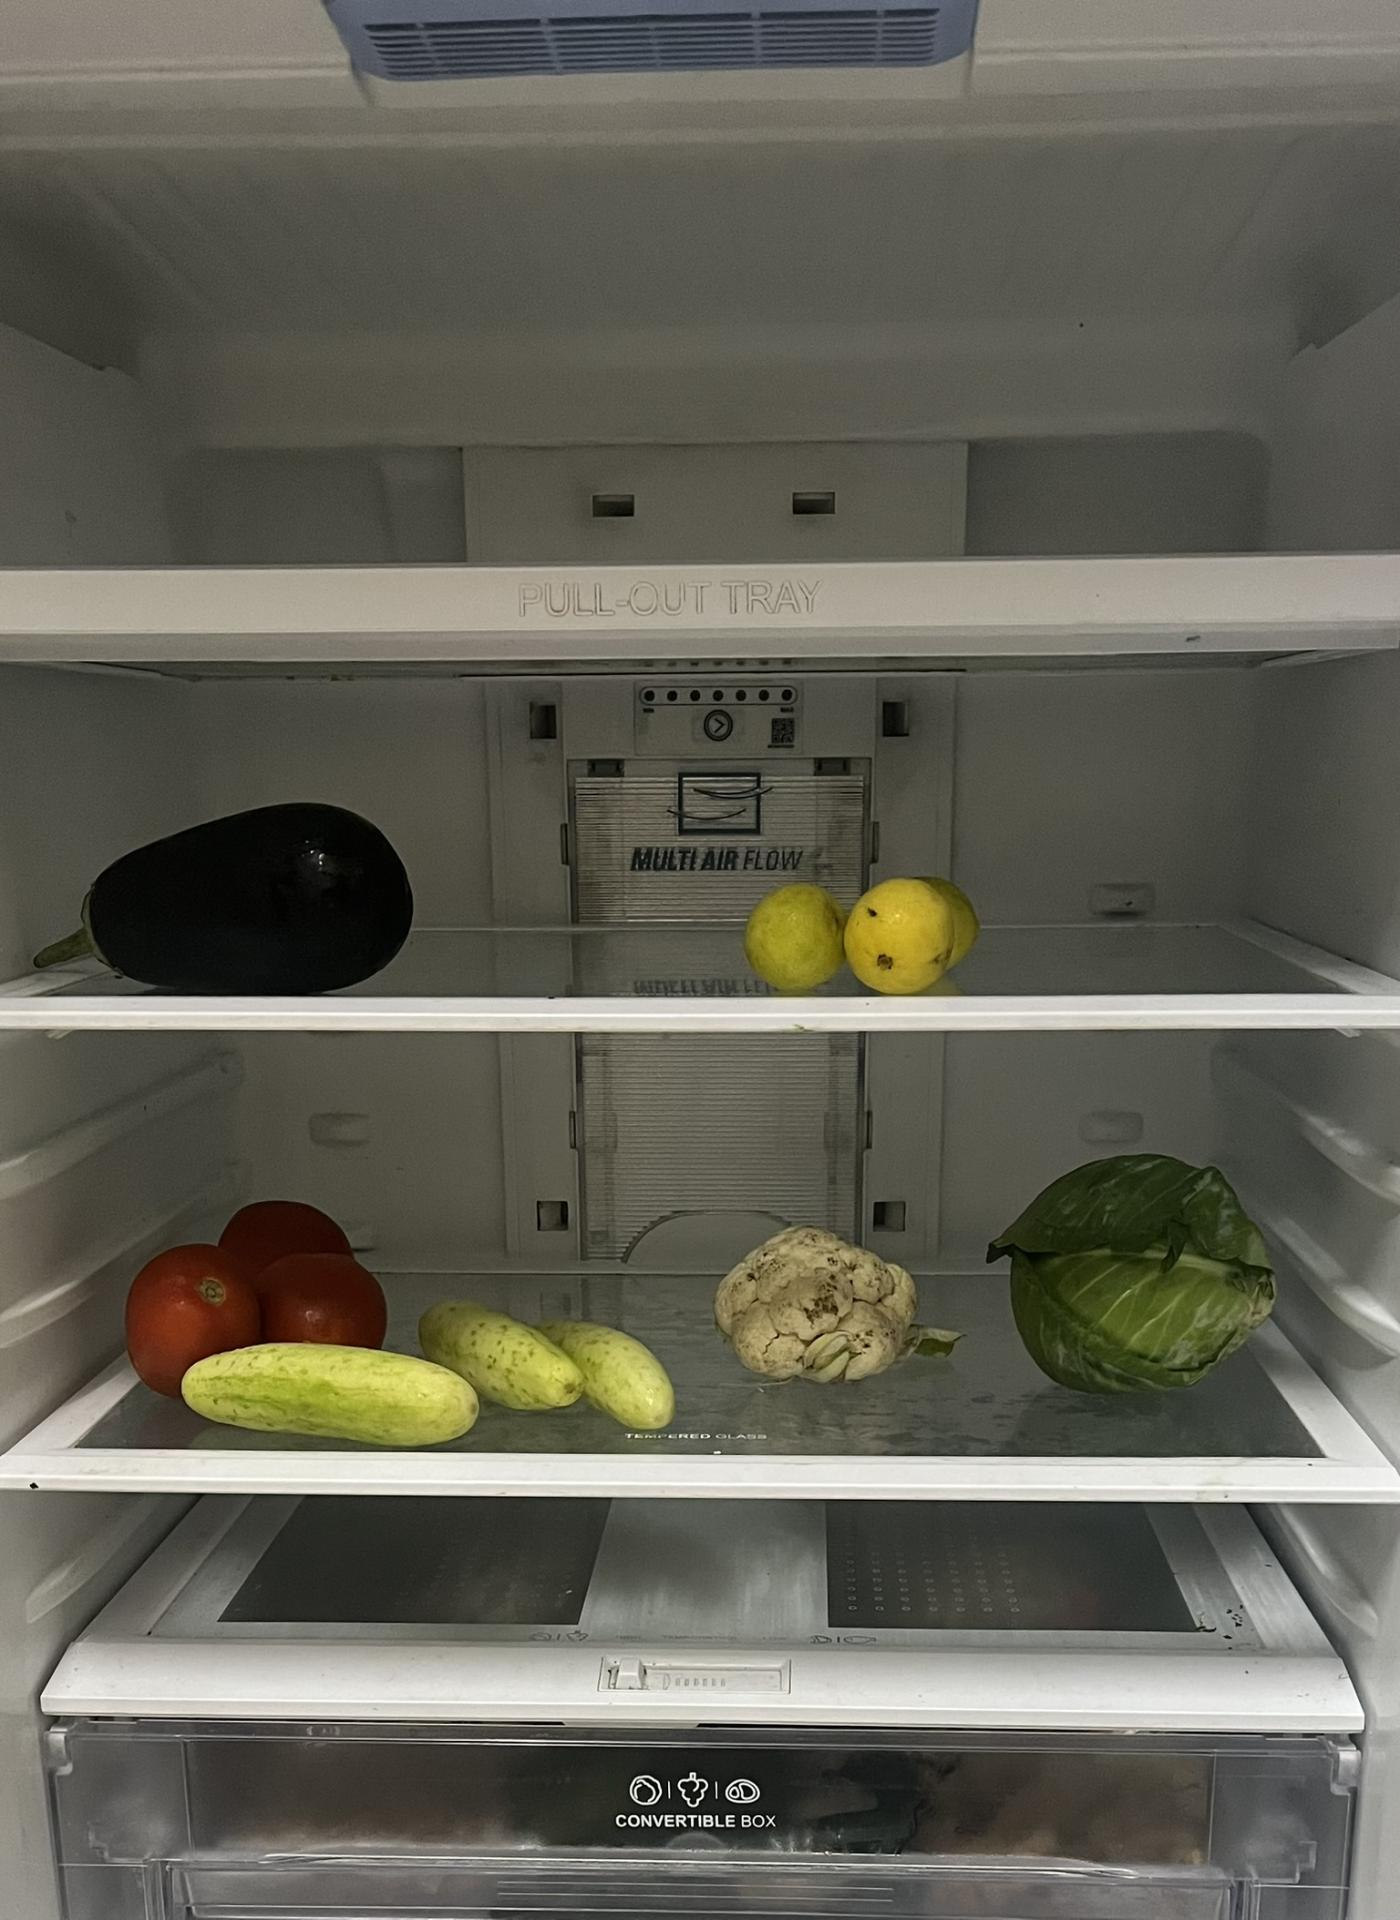brinjal: (82, 796, 417, 991)
cabbage: (1006, 1154, 1272, 1406)
cauliflower: (717, 1230, 911, 1377)
cucumber: (419, 1289, 675, 1430), (177, 1345, 482, 1440)
lemon: (747, 875, 981, 1000)
tomato: (119, 1193, 383, 1392)
